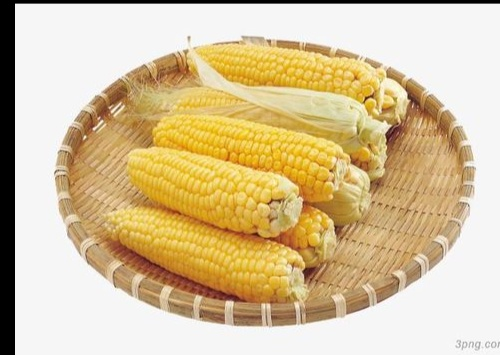corn: (104, 204, 307, 303), (151, 114, 352, 202), (123, 144, 305, 240), (191, 43, 384, 113)
